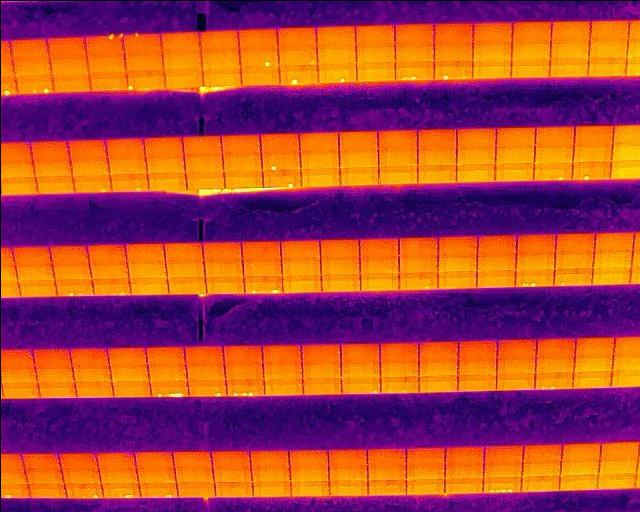Cell: (123, 33, 162, 57), (238, 48, 278, 68), (261, 150, 299, 170), (534, 161, 572, 179), (571, 161, 611, 178), (262, 169, 300, 186), (92, 278, 130, 295), (341, 376, 380, 392), (126, 73, 165, 89), (187, 380, 225, 396), (138, 482, 177, 497), (317, 68, 356, 83), (101, 482, 139, 497), (279, 68, 317, 83), (433, 65, 471, 79), (65, 483, 102, 497)
Cell-Multi: (84, 34, 123, 57), (515, 268, 554, 286), (16, 74, 53, 92), (243, 276, 282, 293), (534, 371, 572, 388), (55, 278, 93, 295), (394, 65, 433, 81), (225, 379, 263, 395), (483, 476, 521, 491)
No-Anomaly: (354, 23, 394, 47), (160, 32, 199, 56), (394, 21, 433, 45), (354, 44, 394, 67), (316, 25, 355, 48), (472, 38, 512, 60), (199, 31, 239, 53), (433, 22, 472, 44), (30, 348, 71, 368), (46, 37, 87, 57), (588, 37, 627, 58), (550, 37, 589, 58), (67, 348, 107, 368), (200, 53, 240, 73), (589, 19, 629, 39), (301, 342, 340, 362), (549, 57, 588, 77), (587, 56, 626, 76), (511, 37, 550, 57), (472, 20, 511, 40), (515, 233, 556, 252), (161, 54, 202, 73), (433, 45, 474, 64), (68, 138, 106, 158), (220, 134, 260, 153), (260, 132, 300, 151), (394, 46, 434, 65), (239, 29, 279, 48), (512, 20, 552, 39), (105, 138, 144, 157), (495, 127, 534, 146), (534, 125, 573, 144), (418, 339, 457, 358), (203, 257, 242, 276), (438, 236, 477, 255), (472, 59, 511, 78), (510, 57, 549, 76), (278, 49, 317, 68), (316, 48, 355, 67), (574, 124, 611, 144), (10, 246, 51, 264), (340, 357, 378, 376), (339, 147, 377, 166), (30, 140, 68, 159), (457, 127, 495, 146), (52, 73, 90, 92), (575, 337, 613, 356), (10, 39, 48, 58), (551, 20, 589, 39), (106, 347, 146, 365), (183, 345, 223, 363), (417, 163, 457, 181), (222, 152, 262, 170), (298, 149, 338, 167), (417, 128, 457, 146), (242, 258, 282, 276), (398, 254, 438, 272), (515, 250, 555, 268), (554, 250, 594, 268), (478, 235, 518, 253), (126, 260, 168, 277), (279, 29, 316, 48), (379, 357, 418, 375), (222, 345, 261, 363), (186, 170, 225, 188), (339, 166, 378, 184), (378, 164, 417, 182), (184, 152, 223, 170), (533, 143, 572, 161), (182, 135, 221, 153), (378, 128, 417, 146), (497, 338, 536, 356), (457, 337, 496, 355), (593, 249, 632, 267), (49, 244, 88, 262), (88, 243, 127, 261), (202, 240, 241, 258), (359, 239, 398, 257), (50, 56, 89, 74), (599, 443, 640, 460), (14, 263, 55, 280), (124, 243, 165, 260), (186, 363, 224, 381), (147, 171, 185, 189), (224, 170, 262, 188), (301, 167, 339, 185), (378, 146, 416, 164), (321, 273, 359, 291), (360, 272, 398, 290), (164, 242, 202, 260), (261, 345, 301, 362), (554, 232, 594, 249), (299, 133, 339, 150), (281, 257, 321, 274), (320, 240, 360, 257), (111, 172, 148, 190), (111, 379, 150, 396), (74, 379, 113, 396), (457, 372, 496, 389), (495, 372, 534, 389), (457, 355, 496, 372), (145, 347, 184, 364), (70, 157, 109, 174), (106, 155, 145, 172), (145, 154, 184, 171), (495, 146, 534, 163), (23, 466, 62, 483), (536, 339, 575, 356), (282, 274, 321, 291), (398, 272, 437, 289), (475, 269, 514, 286), (554, 268, 593, 285), (165, 260, 204, 277), (438, 254, 477, 271), (281, 240, 320, 257), (124, 57, 163, 74), (560, 444, 601, 460), (147, 363, 185, 380), (72, 174, 110, 191), (457, 163, 495, 180), (456, 145, 494, 162), (144, 138, 182, 155), (437, 271, 475, 288), (592, 267, 630, 284), (89, 261, 127, 278), (135, 449, 173, 466), (594, 232, 634, 248), (338, 131, 378, 147), (241, 241, 281, 257), (399, 238, 439, 254), (86, 57, 126, 73), (249, 449, 289, 465), (522, 444, 562, 460), (379, 376, 418, 392), (418, 374, 457, 390), (224, 362, 263, 378), (418, 358, 457, 374), (496, 355, 535, 371), (597, 472, 636, 488), (495, 163, 534, 179), (417, 147, 456, 163), (129, 278, 168, 294), (205, 277, 244, 293), (166, 276, 205, 292), (359, 256, 398, 272), (406, 478, 445, 494), (444, 476, 483, 492), (96, 452, 135, 468), (289, 449, 328, 465), (328, 448, 367, 464), (367, 448, 406, 464), (36, 174, 72, 191), (559, 474, 597, 490), (33, 158, 71, 174), (573, 145, 611, 161), (137, 466, 175, 482), (357, 65, 395, 81), (13, 58, 51, 74), (173, 451, 211, 467), (211, 450, 249, 466), (109, 365, 149, 380), (444, 446, 484, 461), (484, 446, 524, 461), (53, 262, 90, 278), (89, 74, 126, 90), (263, 377, 302, 392), (71, 365, 110, 380), (262, 362, 301, 377), (535, 356, 574, 371), (521, 475, 560, 490), (290, 465, 329, 480), (328, 465, 367, 480), (367, 464, 406, 479), (444, 462, 483, 477), (340, 342, 379, 357), (378, 342, 417, 357), (17, 281, 56, 296), (290, 480, 329, 495), (329, 479, 368, 494), (320, 258, 359, 273), (476, 254, 515, 269), (483, 461, 522, 476), (240, 69, 279, 84), (521, 461, 560, 476), (37, 381, 75, 396), (302, 378, 340, 393), (573, 371, 611, 386), (62, 468, 100, 483), (98, 467, 136, 482), (27, 482, 65, 497), (214, 481, 252, 496), (252, 481, 290, 496), (368, 479, 406, 494), (58, 452, 96, 467), (407, 448, 445, 463), (560, 460, 600, 474), (177, 481, 214, 496), (34, 367, 73, 381), (301, 363, 340, 377), (175, 467, 214, 481), (212, 467, 251, 481), (252, 466, 291, 480), (406, 463, 445, 477), (164, 72, 203, 86), (202, 71, 241, 85), (22, 451, 58, 466), (573, 357, 611, 371), (598, 460, 637, 473)
Unclassified: (149, 380, 188, 396)
